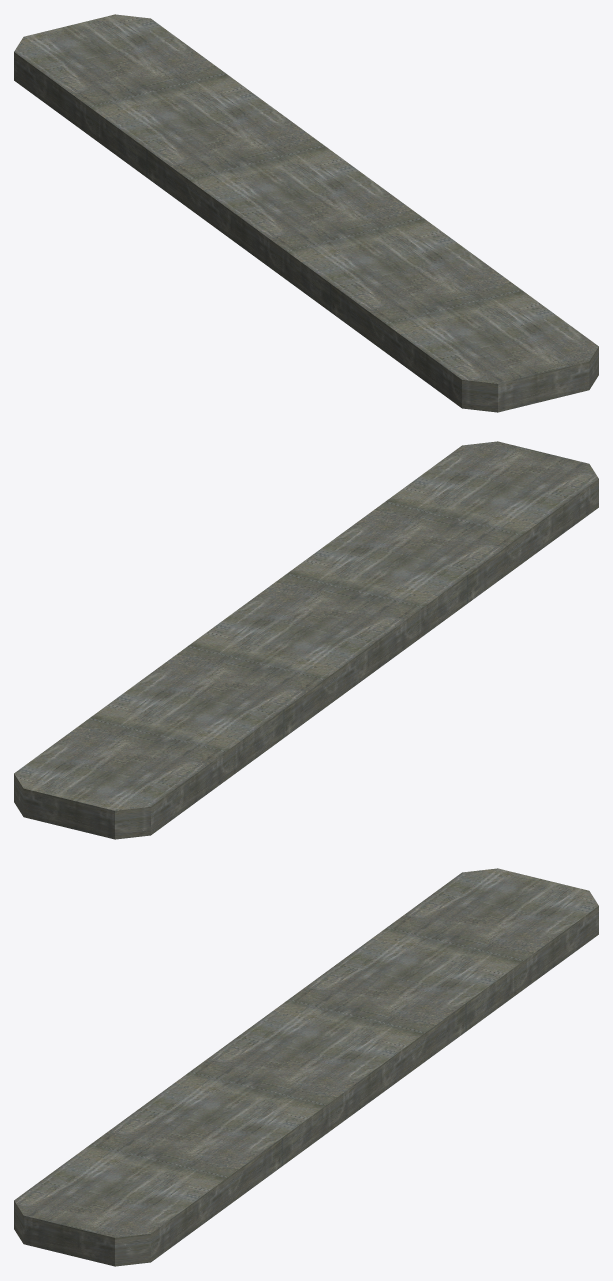
Rendered from RealityBridge_2x12.fbx.
3 renders of one model, top to bottom at view 1: azimuth 30°, elevation 25°; view 2: azimuth 150°, elevation 25°; view 3: azimuth 330°, elevation 25°, orthographic.
Visible parts, largest first — view 1: RealityBridge_2x12; view 2: RealityBridge_2x12; view 3: RealityBridge_2x12.
Boxes of the visible parts, left/top/right/bottom form: RealityBridge_2x12: left=14, top=14, right=598, bottom=412; RealityBridge_2x12: left=14, top=441, right=598, bottom=839; RealityBridge_2x12: left=14, top=868, right=598, bottom=1266.
Bounding box in the file's own units: 200 × 40 × 1200.
